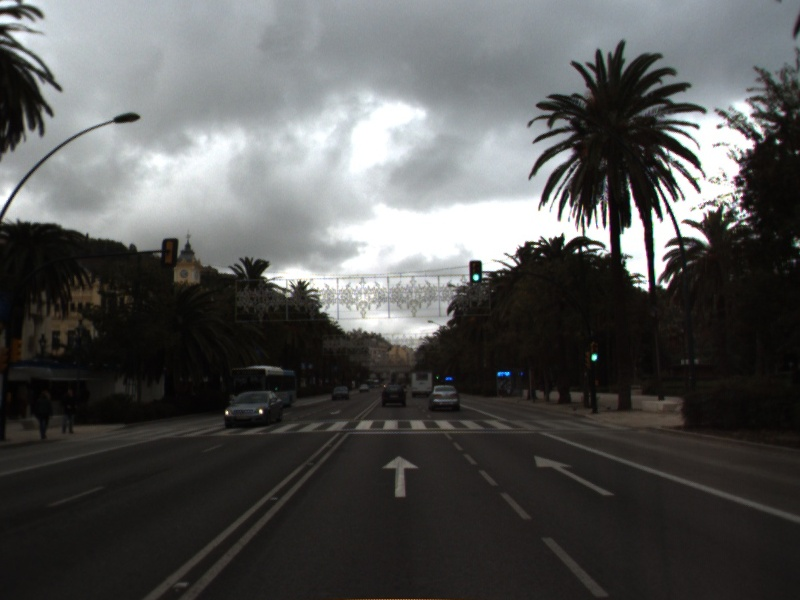STRAIGHT: (532, 453, 617, 497), (380, 454, 421, 499)
